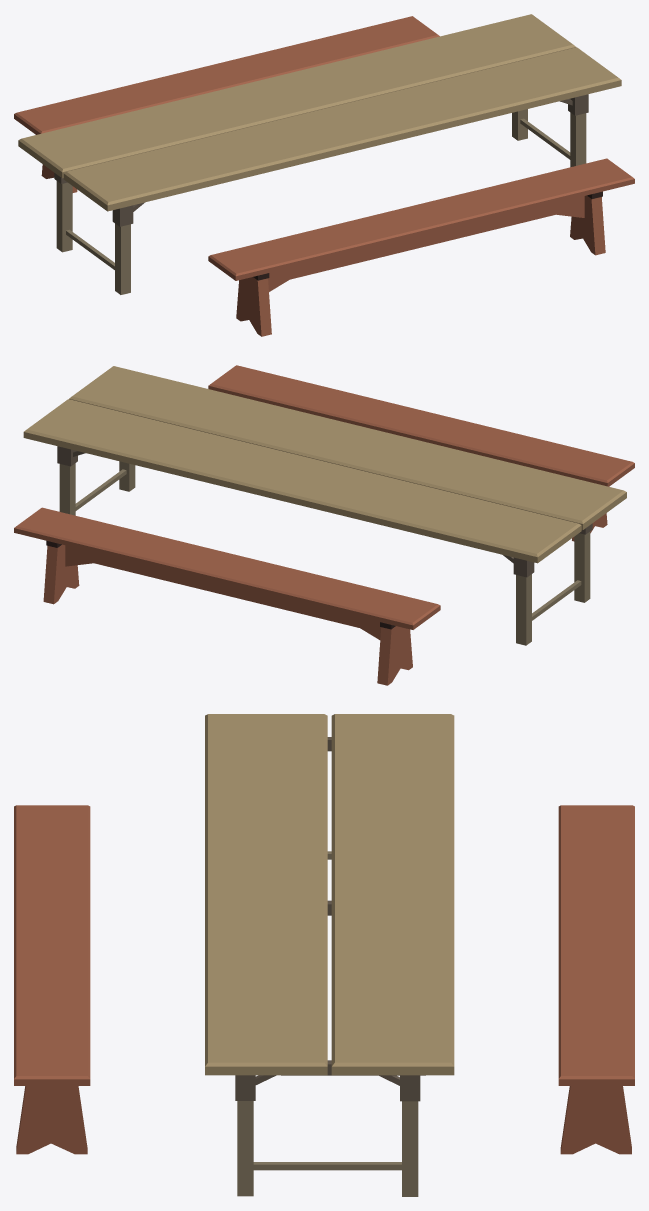
Rendered from table and chairs.fbx.
The picture shows the model from 3 angles, top to bottom: view 1: azimuth 30°, elevation 25°; view 2: azimuth 150°, elevation 25°; view 3: azimuth 270°, elevation 25°; orthographic projection. The views are drawn at different scales.
Parts seen in each view (by area): view 1: pCube2, pCube1, polySurface42, polySurface39, polySurface41, polySurface46, polySurface43, polySurface40, pCube20, pCube19, pCube21; view 2: pCube1, pCube2, polySurface39, polySurface42, polySurface35, polySurface38, polySurface37, polySurface33, pCube19, pCube20, pCube22; view 3: pCube1, pCube2, polySurface39, polySurface42, polySurface40, polySurface33, pCube21, pCube22, pCube23.
Boxes of the visible parts, x1=… form: pCube2: x1=63, y1=47, x2=621, y2=211; pCube1: x1=18, y1=14, x2=575, y2=178; polySurface42: x1=208, y1=158, x2=634, y2=280; polySurface39: x1=14, y1=16, x2=439, y2=134; polySurface41: x1=338, y1=196, x2=584, y2=266; polySurface46: x1=268, y1=217, x2=507, y2=291; polySurface43: x1=236, y1=277, x2=271, y2=336; polySurface40: x1=570, y1=195, x2=605, y2=255; pCube20: x1=56, y1=181, x2=72, y2=252; pCube19: x1=115, y1=223, x2=130, y2=294; pCube21: x1=570, y1=112, x2=586, y2=167; pCube1: x1=23, y1=399, x2=581, y2=563; pCube2: x1=69, y1=366, x2=626, y2=529; polySurface39: x1=14, y1=507, x2=440, y2=629; polySurface42: x1=208, y1=365, x2=634, y2=486; polySurface35: x1=141, y1=564, x2=381, y2=639; polySurface38: x1=65, y1=545, x2=312, y2=616; polySurface37: x1=377, y1=626, x2=412, y2=685; polySurface33: x1=43, y1=544, x2=79, y2=604; pCube19: x1=574, y1=531, x2=590, y2=602; pCube20: x1=516, y1=574, x2=531, y2=645; pCube22: x1=59, y1=463, x2=75, y2=515; pCube1: x1=331, y1=714, x2=454, y2=1075; pCube2: x1=205, y1=714, x2=327, y2=1075; polySurface39: x1=558, y1=805, x2=634, y2=1085; polySurface42: x1=14, y1=805, x2=90, y2=1085; polySurface40: x1=16, y1=1086, x2=87, y2=1154; polySurface33: x1=560, y1=1086, x2=631, y2=1154; pCube21: x1=237, y1=1101, x2=253, y2=1196; pCube22: x1=402, y1=1101, x2=418, y2=1196; pCube23: x1=253, y1=1162, x2=401, y2=1170.
Bounding box in the file's own units: 17.74 × 3.5 × 13.25.
